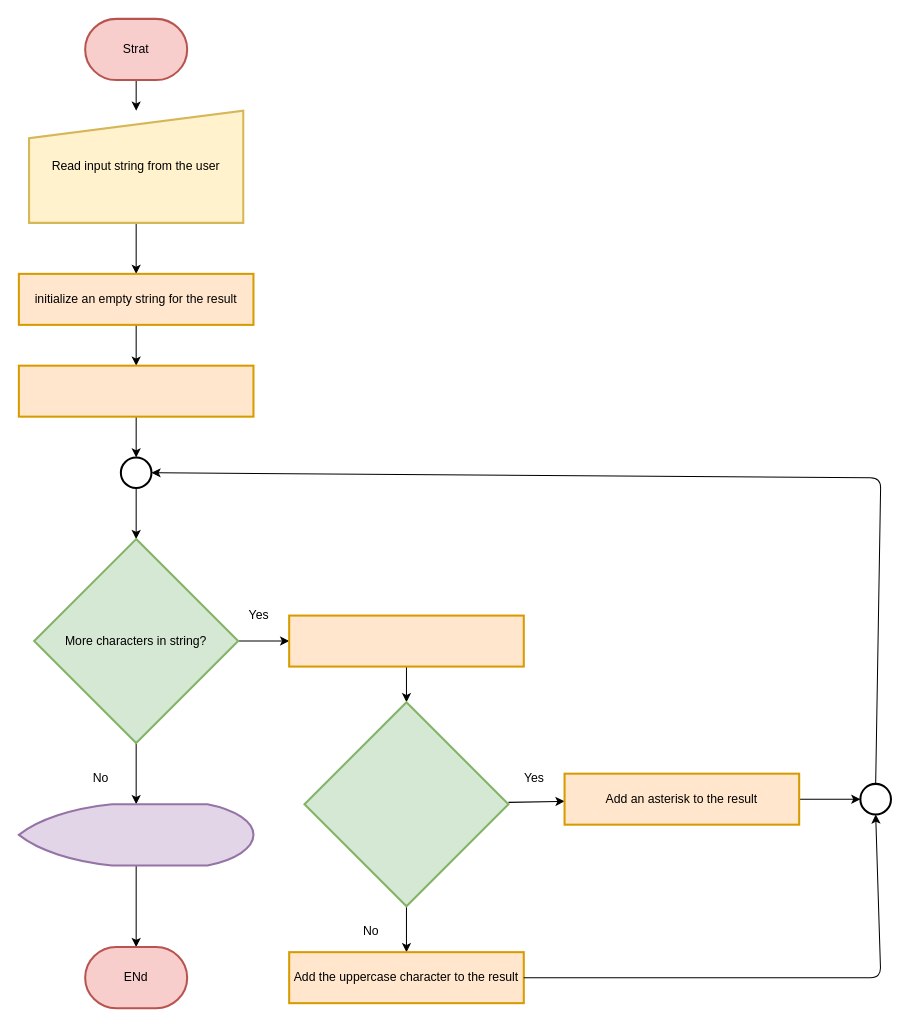
The diagram is 909 pixels wide and 1026 high, and some of its shapes have lost their labels. The shapes that lost their labels are listed below. From the top down, each one's centre as x and y in pixels, then its label:
point 135,390: Define vowel as "aeiouAEIOU"
point 406,640: Convert character to uppercase
point 406,804: Is character a vowel?
point 135,834: print the modified string
